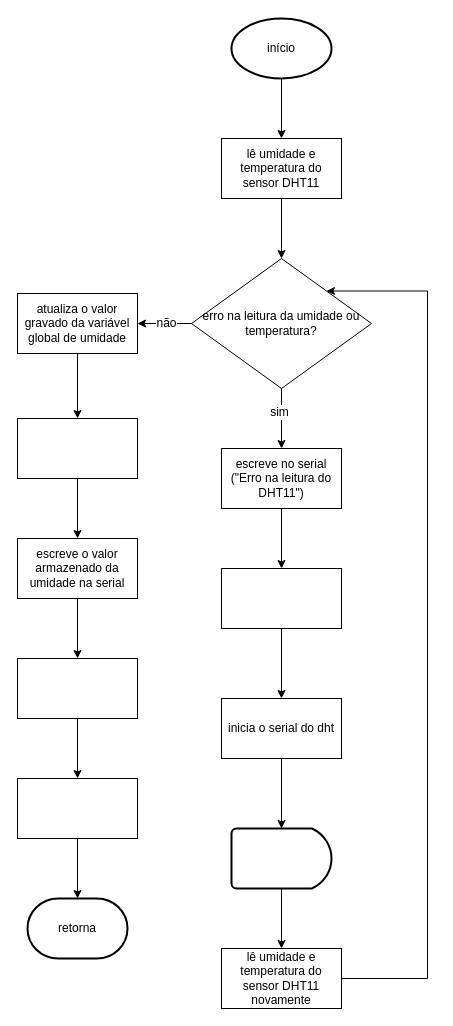
The diagram is 453 pixels wide and 1026 high, and some of its shapes have lost their labels. Here are the shapes that lost their labels. From the top down, the box of each, then its label:
(16, 418, 138, 478): escreve no serial ("Umidade (Ur%) = ")
(220, 568, 342, 628): escreve no LCD ("Erro no DHT11!")
(16, 658, 138, 718): escreve no serial ("Temperatura - DHT11 (°C) = ")
(16, 778, 138, 838): escreve o valor lido da temperatura na serial
(230, 827, 332, 889): delay de 100 ms
